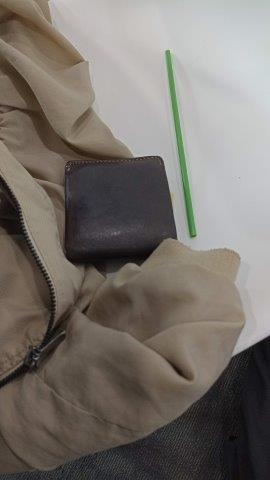sedotan: (165, 50, 196, 237)
